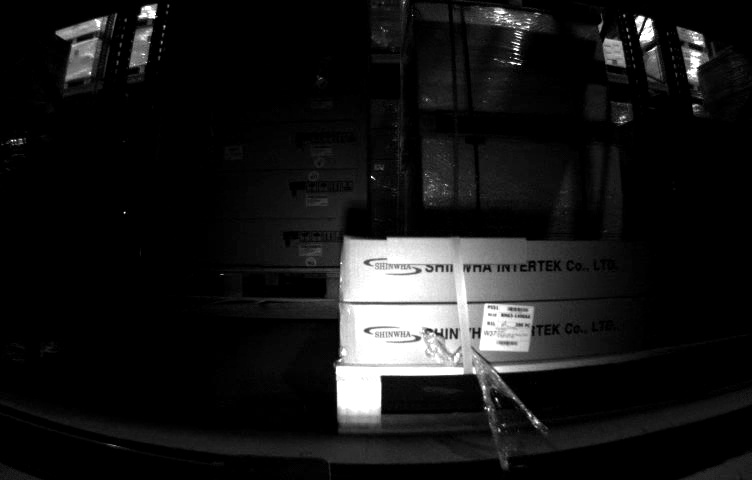True Barcode: (479, 300, 536, 355)
